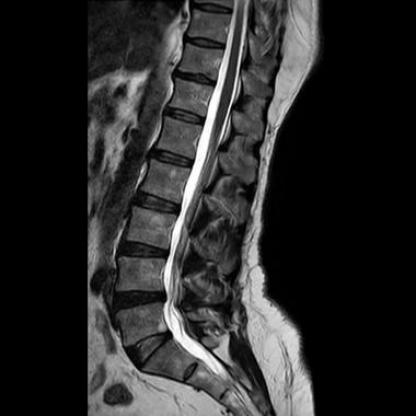Disc Bulgerotation: (111, 288, 167, 312), (116, 238, 169, 262)
